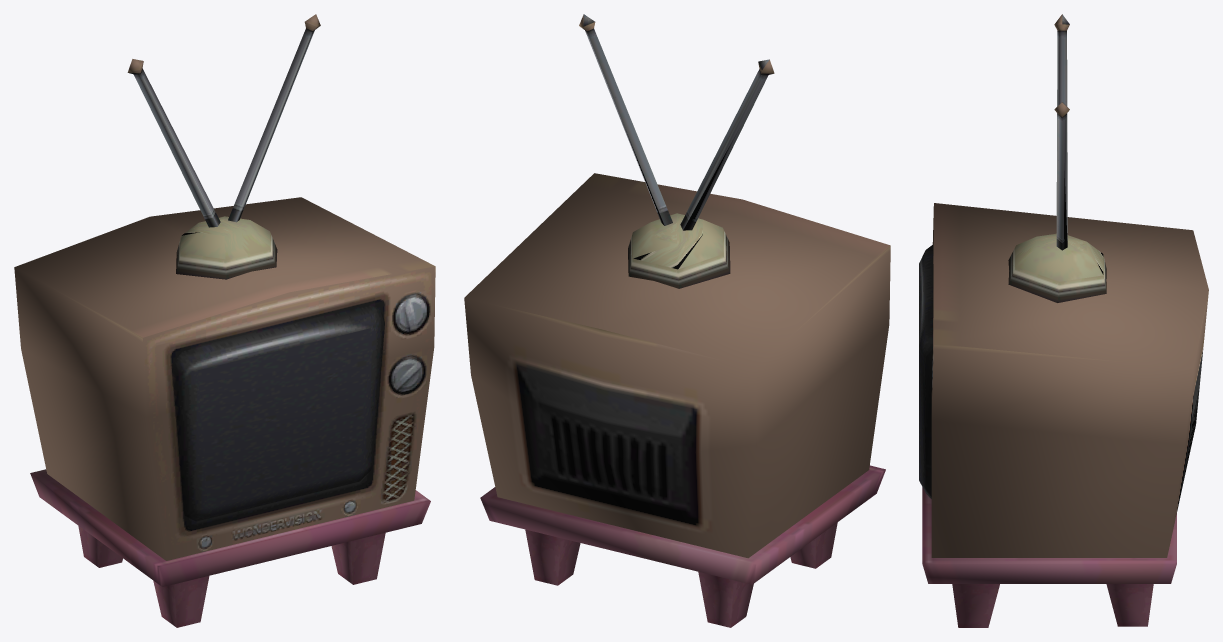
Rendered from a_prop_TV1.obj.
The picture shows the model from 3 angles, left to right: view 1: azimuth 30°, elevation 25°; view 2: azimuth 150°, elevation 25°; view 3: azimuth 270°, elevation 25°; orthographic projection. The views are drawn at different scales.
Visible parts, largest first — view 1: tv; view 2: tv; view 3: tv.
Part boxes in pixels (x1,y1,x2,y2): tv: (14,14,435,627); tv: (464,14,890,627); tv: (919,14,1208,627).
Bounding box in the file's own units: 97.61 × 168 × 84.83.
1 material, 1 textured.
